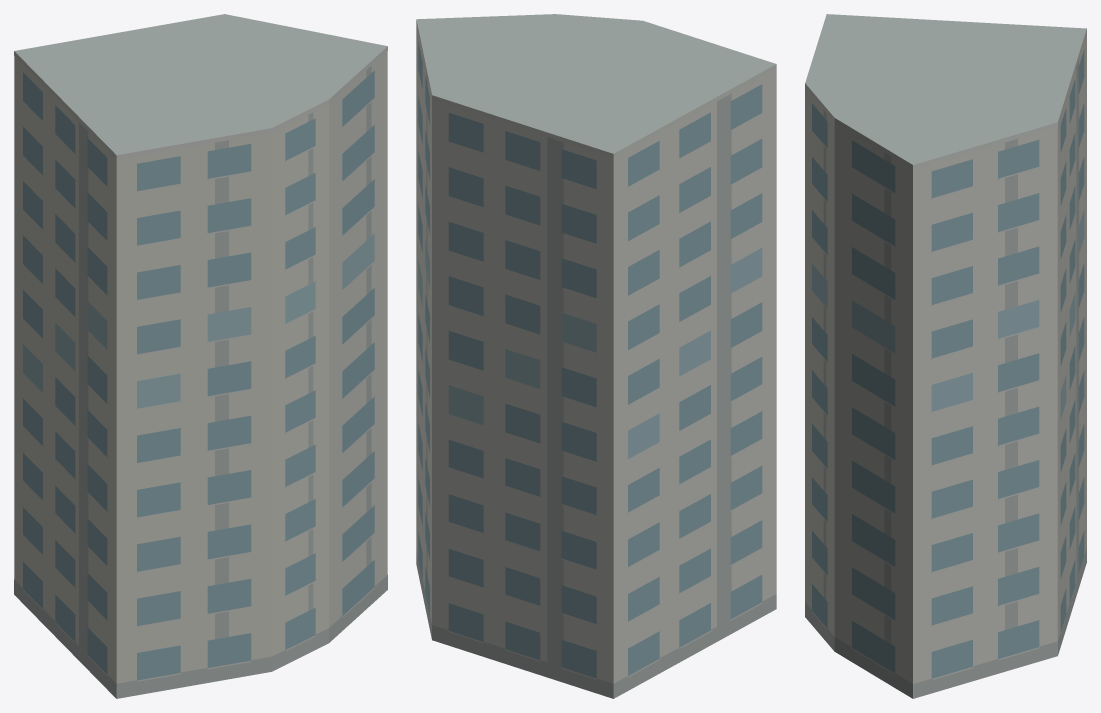
The model's file is residential-860944d9-8d40-4c5a-b99a-71b93f0e4d96.glb.
3 renders of one model, left to right at view 1: azimuth 30°, elevation 25°; view 2: azimuth 150°, elevation 25°; view 3: azimuth 270°, elevation 25°, orthographic. The views are drawn at different scales.
Visible parts, largest first — view 1: residential-860944d9-8d40-4c5a-b99a-71b93f0e4d96.tmp; view 2: residential-860944d9-8d40-4c5a-b99a-71b93f0e4d96.tmp; view 3: residential-860944d9-8d40-4c5a-b99a-71b93f0e4d96.tmp.
Part boxes in pixels (box(x1,y1,x2,y2)): residential-860944d9-8d40-4c5a-b99a-71b93f0e4d96.tmp: box(14, 14, 387, 698); residential-860944d9-8d40-4c5a-b99a-71b93f0e4d96.tmp: box(416, 14, 776, 698); residential-860944d9-8d40-4c5a-b99a-71b93f0e4d96.tmp: box(805, 14, 1086, 698).
Bounding box in the file's own units: 17 × 28 × 13.4.
